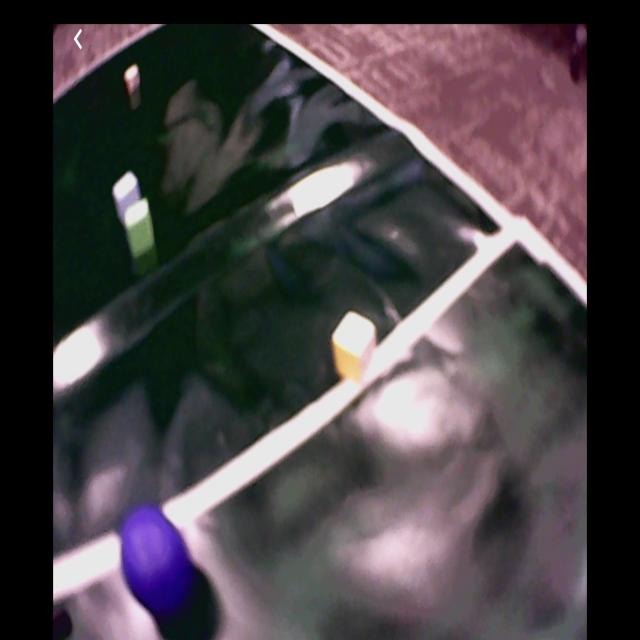ball: (121, 507, 191, 609)
